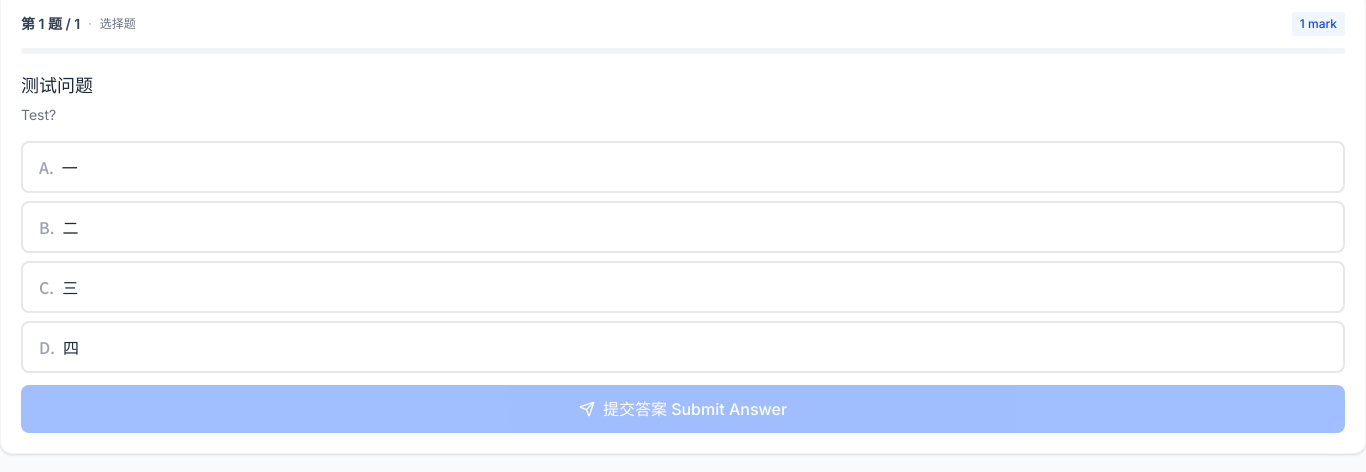
Scenario: QuestionCard — click flow regression › clicking an MC option enables the submit button
The width and height of the screenshot is (1366, 472).
Check: the button "提交答案 Submit Answer" is disabled, box [21, 385, 1345, 433]
Click the radio button labelled "B.二" at coordinates (44, 227), box [21, 201, 1345, 253]
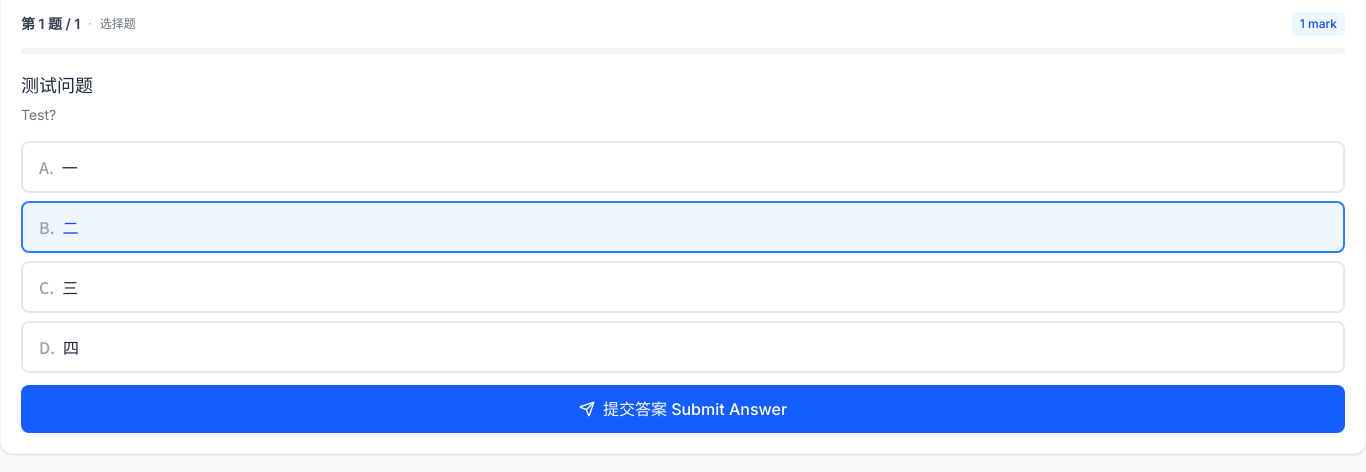
Check: the button "提交答案 Submit Answer" is enabled, box [21, 385, 1345, 433]
